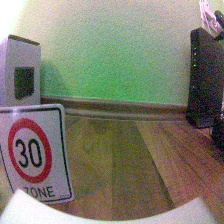dreisiger_zone: (1, 104, 74, 206)
